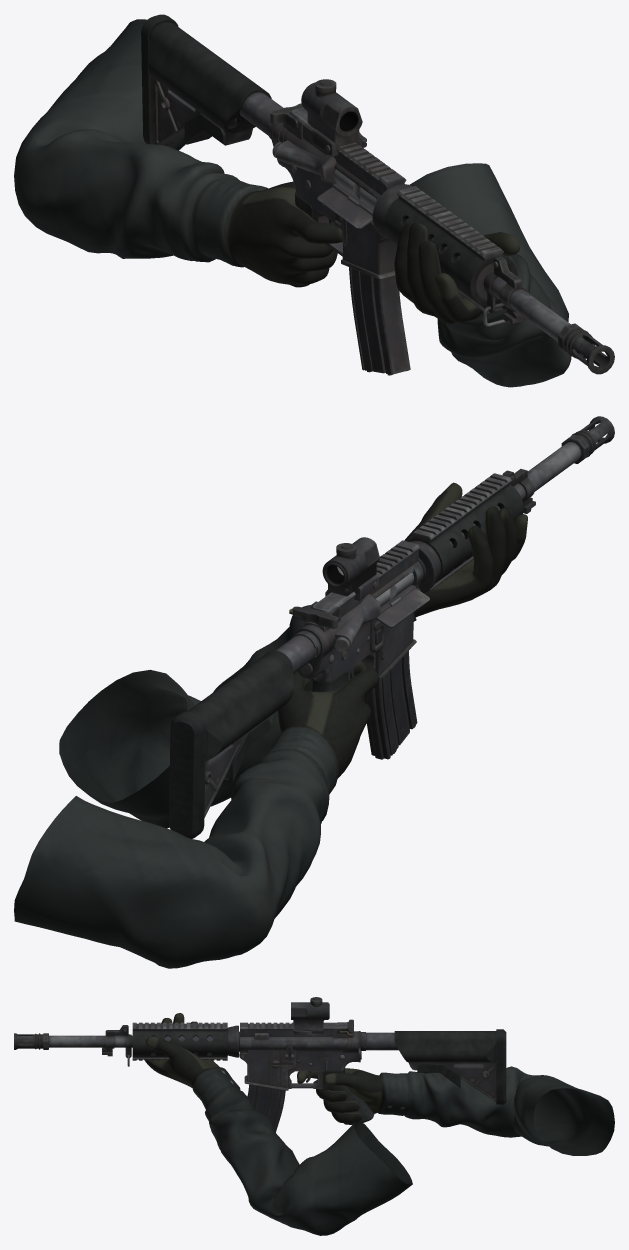
File: gun_000156.obj
The picture shows the model from 3 angles, top to bottom: view 1: azimuth 30°, elevation 25°; view 2: azimuth 150°, elevation 25°; view 3: azimuth 270°, elevation 25°; orthographic projection. The views are drawn at different scales.
Parts seen in each view (by area): view 1: armmesh_arms_0, base_carbine_0, clip_carbine_0, scope_carbine_0, lid_carbine_0, bolt_carbine_0; view 2: armmesh_arms_0, base_carbine_0, clip_carbine_0, scope_carbine_0, lid_carbine_0, handle_carbine_0; view 3: armmesh_arms_0, base_carbine_0, scope_carbine_0, clip_carbine_0.
Boxes of the visible parts, bbox=[...] form: armmesh_arms_0: bbox=[14, 19, 571, 387]; base_carbine_0: bbox=[141, 14, 614, 374]; clip_carbine_0: bbox=[349, 267, 410, 375]; scope_carbine_0: bbox=[301, 79, 366, 156]; lid_carbine_0: bbox=[317, 186, 372, 229]; bolt_carbine_0: bbox=[334, 169, 376, 209]; armmesh_arms_0: bbox=[14, 482, 527, 968]; base_carbine_0: bbox=[168, 416, 614, 838]; clip_carbine_0: bbox=[364, 651, 417, 759]; scope_carbine_0: bbox=[322, 537, 379, 600]; lid_carbine_0: bbox=[376, 588, 429, 627]; handle_carbine_0: bbox=[292, 601, 340, 628]; armmesh_arms_0: bbox=[144, 1013, 614, 1235]; base_carbine_0: bbox=[14, 1022, 506, 1124]; scope_carbine_0: bbox=[291, 997, 329, 1035]; clip_carbine_0: bbox=[247, 1084, 285, 1132].
Size of the model in its own units: 44.66 by 41.63 by 123.
